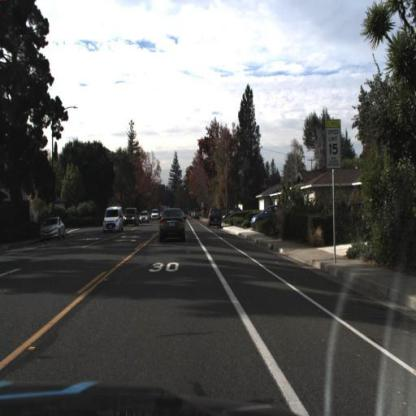car: (157, 206, 189, 246), (39, 216, 68, 243), (250, 204, 279, 230), (102, 205, 125, 234), (123, 208, 140, 229), (208, 208, 224, 229), (139, 209, 151, 224), (151, 208, 161, 222)
trafficLight-Green: (172, 185, 176, 195), (185, 185, 188, 193)
